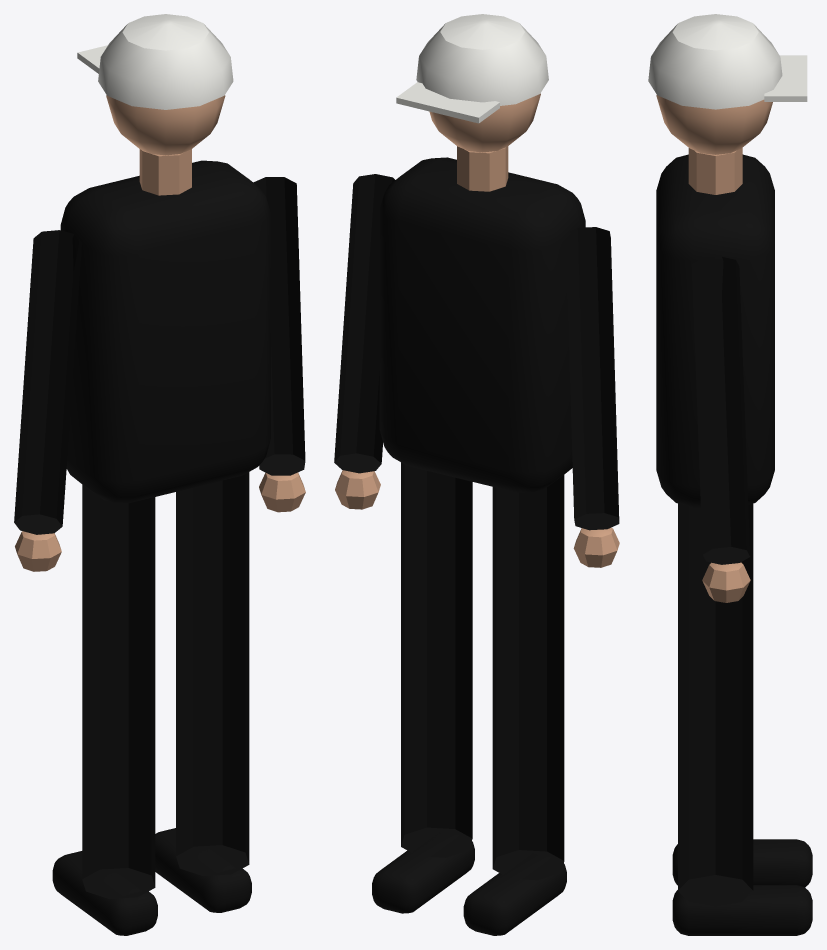
Rendered from people.staff.pilot.glb.
The picture shows the model from 3 angles, left to right: view 1: azimuth 30°, elevation 25°; view 2: azimuth 150°, elevation 25°; view 3: azimuth 270°, elevation 25°; orthographic projection. The views are drawn at different scales.
Visible parts, largest first — view 1: main__plastic_black, main__paint_white, main__skin; view 2: main__plastic_black, main__paint_white, main__skin; view 3: main__plastic_black, main__paint_white, main__skin.
Boxes of the visible parts, x1,y1,x2,y2 form: main__plastic_black: (14,160,305,935); main__paint_white: (77,14,233,109); main__skin: (15,95,305,571); main__plastic_black: (334,157,619,935); main__paint_white: (396,14,548,123); main__skin: (335,93,619,567); main__plastic_black: (656,154,812,935); main__paint_white: (648,14,807,109); main__skin: (656,95,772,602).
Bounding box in the file's own units: 0.61 × 1.81 × 0.305.
